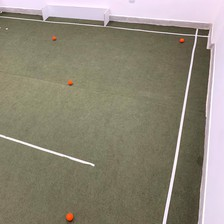ball: (64, 211, 74, 222), (66, 77, 73, 85), (178, 35, 185, 42), (49, 35, 56, 42)
goal: (41, 1, 110, 26)
